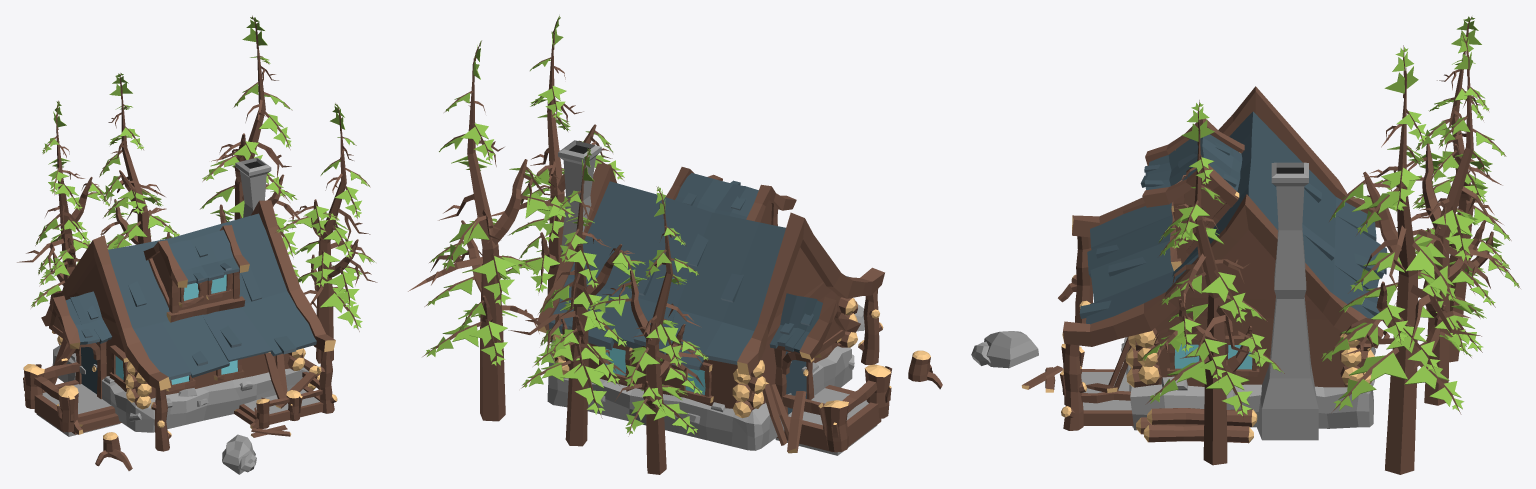
The model's file is cabin.glb.
3 renders of one model, left to right at view 1: azimuth 30°, elevation 25°; view 2: azimuth 150°, elevation 25°; view 3: azimuth 270°, elevation 25°, orthographic. The views are drawn at different scales.
Visible parts, largest first — view 1: group1959508968, group452503139, group111155014, group1801783179, group551173013, group219459434, group1958003972, group182768936, group374118918, group288122642, group834835194, group1383119677 (+28 smaller); view 2: group1959508968, group111155014, group219459434, group551173013, group452503139, group2091678014, group1958003972, group834835194, group374118918, group1383119677, group213256307, group288122642 (+17 smaller); view 3: group111155014, group1959508968, group452503139, group1383119677, group219459434, group708783982, group182768936, group551173013, group2091678014, group1958003972, group374118918, group463252065 (+13 smaller).
Part boxes in pixels (x1=…): group1959508968: x1=108, y1=213, x2=316, y2=380; group452503139: x1=275, y1=103, x2=377, y2=363; group111155014: x1=200, y1=15, x2=300, y2=282; group1801783179: x1=101, y1=368, x2=301, y2=432; group551173013: x1=17, y1=100, x2=109, y2=307; group219459434: x1=99, y1=73, x2=179, y2=249; group1958003972: x1=49, y1=235, x2=170, y2=390; group182768936: x1=251, y1=200, x2=335, y2=351; group374118918: x1=169, y1=230, x2=239, y2=284; group288122642: x1=66, y1=291, x2=111, y2=344; group834835194: x1=72, y1=263, x2=129, y2=391; group1383119677: x1=235, y1=157, x2=271, y2=217; group1959508968: x1=548, y1=181, x2=850, y2=370; group111155014: x1=408, y1=40, x2=575, y2=421; group219459434: x1=508, y1=147, x2=645, y2=446; group551173013: x1=588, y1=186, x2=709, y2=474; group452503139: x1=491, y1=15, x2=624, y2=342; group2091678014: x1=547, y1=376, x2=784, y2=450; group1958003972: x1=737, y1=212, x2=884, y2=375; group834835194: x1=753, y1=247, x2=841, y2=409; group374118918: x1=675, y1=173, x2=758, y2=219; group1383119677: x1=549, y1=140, x2=601, y2=366; group213256307: x1=588, y1=343, x2=737, y2=408; group288122642: x1=769, y1=293, x2=822, y2=352; group111155014: x1=1318, y1=45, x2=1481, y2=474; group1959508968: x1=1086, y1=111, x2=1387, y2=325; group452503139: x1=1139, y1=100, x2=1284, y2=465; group1383119677: x1=1257, y1=162, x2=1318, y2=440; group219459434: x1=1375, y1=32, x2=1510, y2=405; group708783982: x1=1155, y1=230, x2=1347, y2=387; group182768936: x1=1062, y1=194, x2=1383, y2=348; group551173013: x1=1395, y1=16, x2=1520, y2=362; group2091678014: x1=1130, y1=347, x2=1375, y2=430; group1958003972: x1=1072, y1=86, x2=1379, y2=237; group374118918: x1=1140, y1=134, x2=1242, y2=191; group463252065: x1=1125, y1=328, x2=1161, y2=387.
Size of the model in its own units: 3.71 by 3.44 by 3.98.
